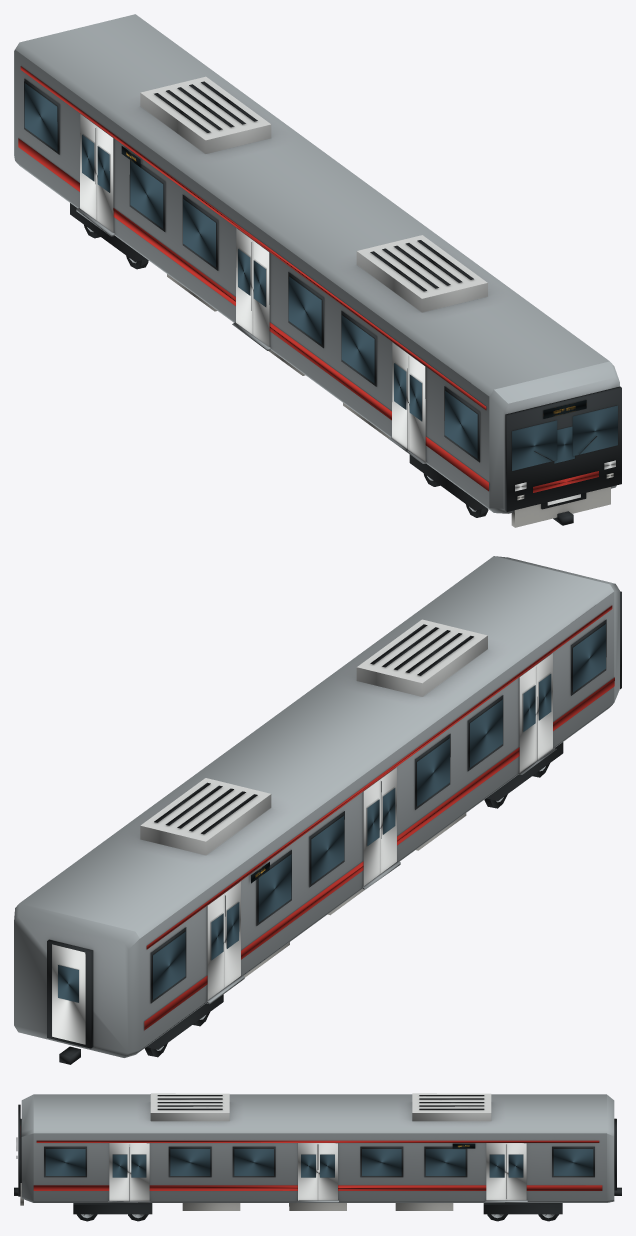
File: regional_trailer.lod1.obj
3 renders of one model, top to bottom at view 1: azimuth 30°, elevation 25°; view 2: azimuth 150°, elevation 25°; view 3: azimuth 270°, elevation 25°, orthographic. The views are drawn at different scales.
Parts seen in each view (by area): view 1: regional_trailer; view 2: regional_trailer; view 3: regional_trailer.
Part boxes in pixels (bbox=[...]): regional_trailer: bbox=[14, 14, 621, 527]; regional_trailer: bbox=[14, 556, 621, 1064]; regional_trailer: bbox=[14, 1093, 621, 1221].
Size of the model in its own units: 3.08 by 3.95 by 20.
1 material, 1 textured.
